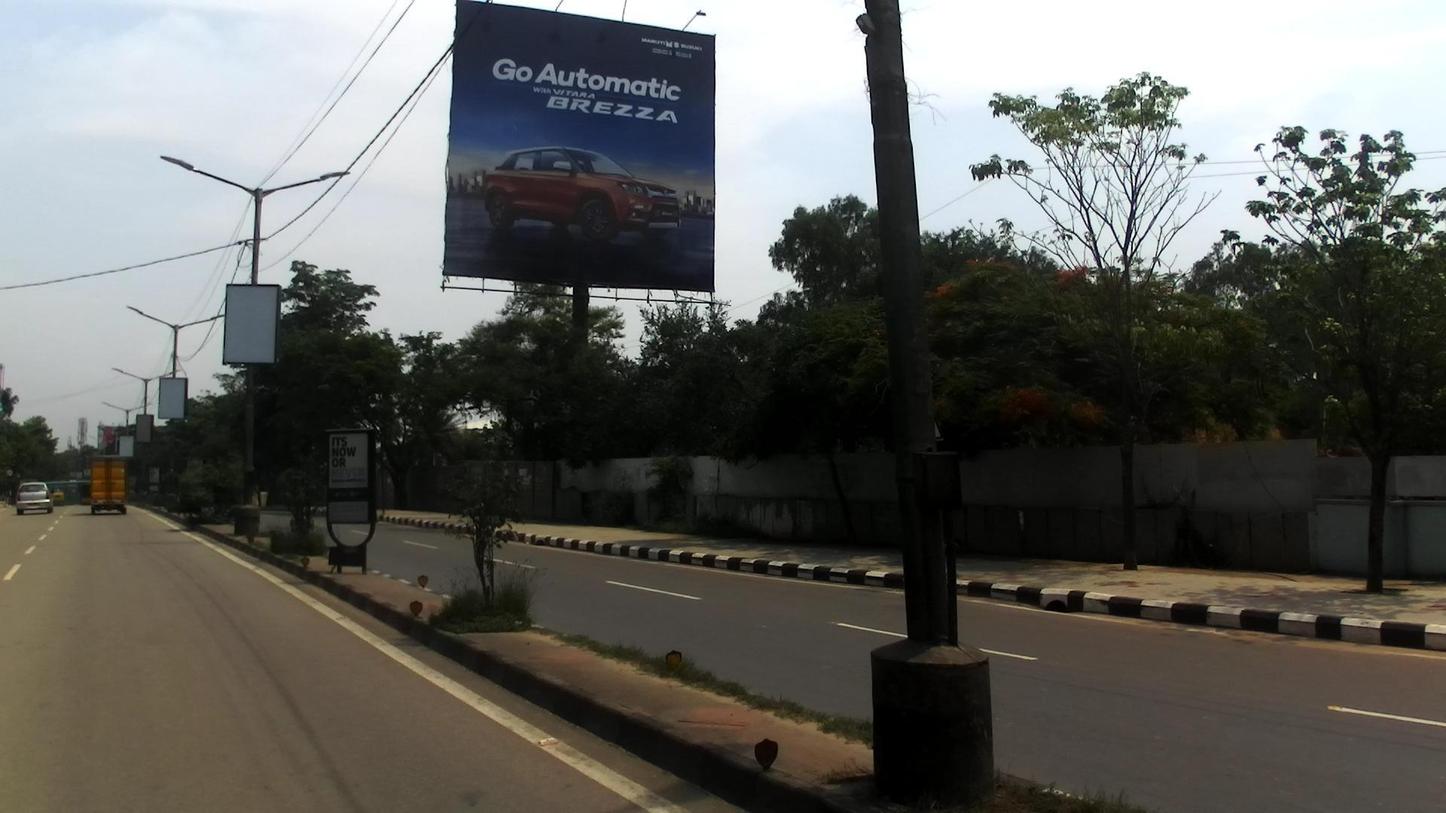streetlight: (158, 154, 264, 206), (254, 172, 352, 204), (124, 306, 182, 333), (172, 316, 226, 332), (110, 368, 149, 385), (142, 371, 181, 387), (100, 401, 130, 419), (125, 403, 154, 416)
